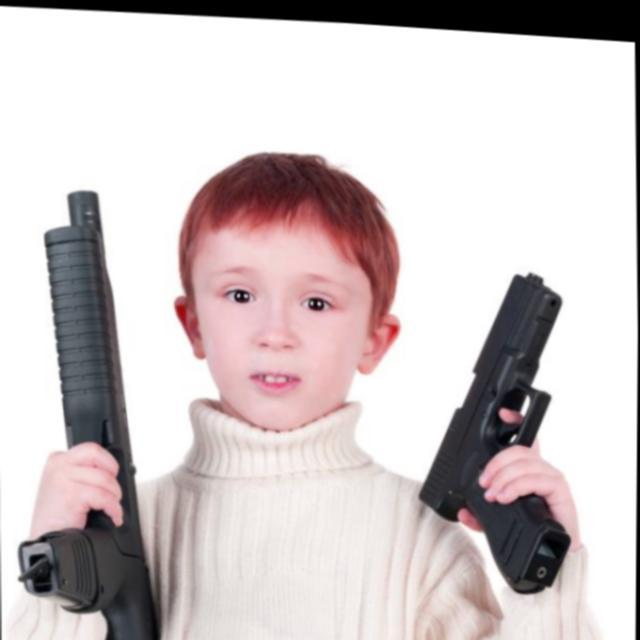weapon: (9, 183, 159, 640), (413, 256, 574, 592)
